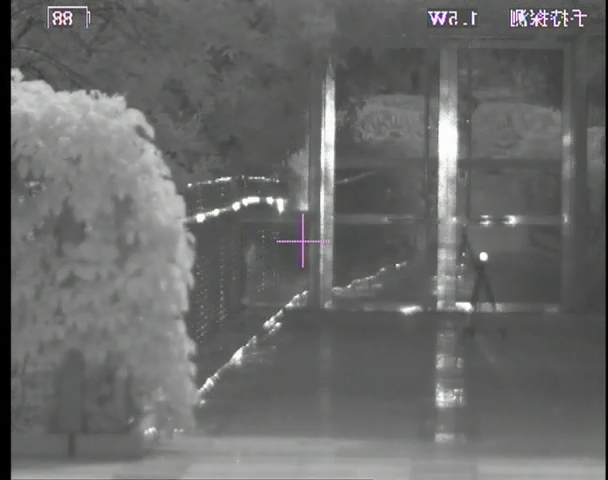my: (478, 251, 489, 262)
